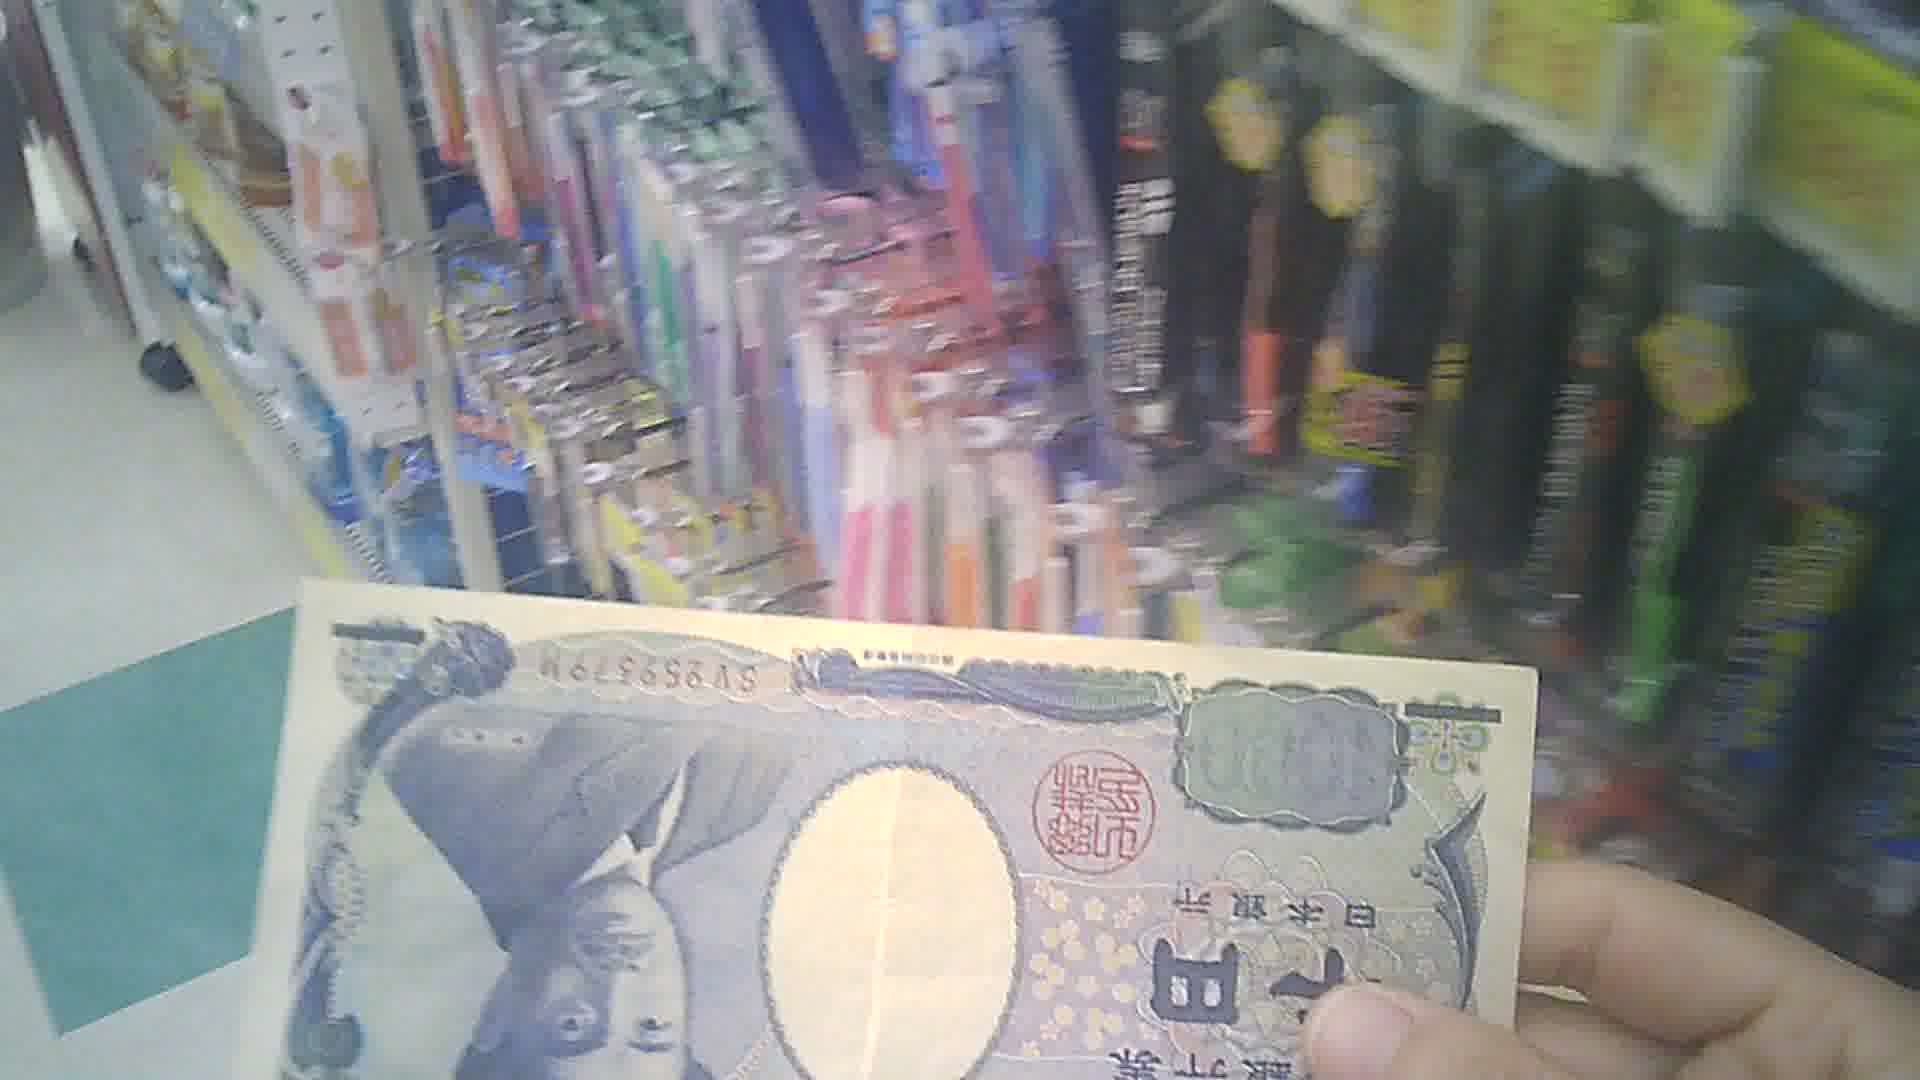1,000 Yen: (239, 570, 1545, 1077)
